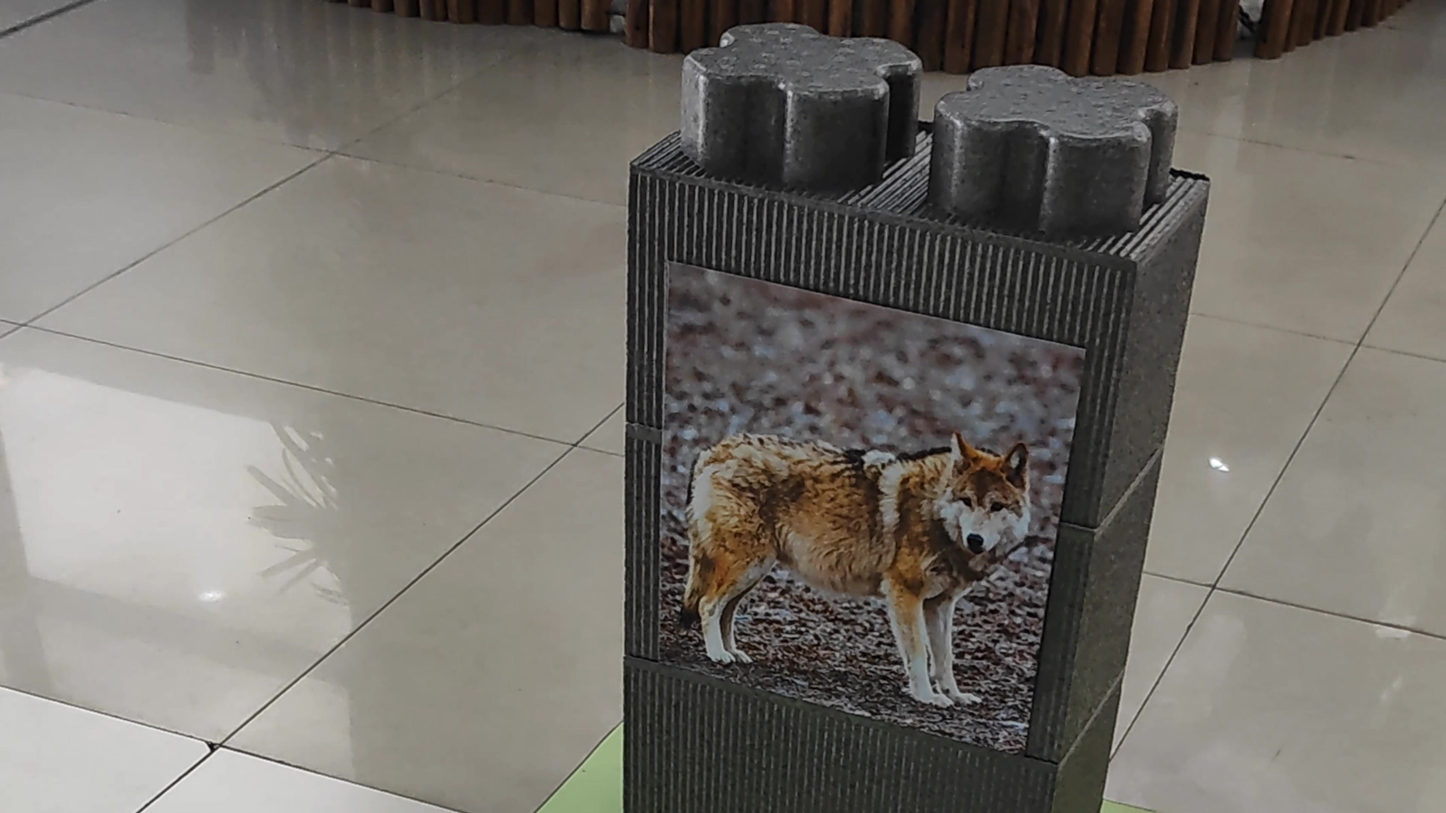wolf: (646, 373, 1042, 740)
